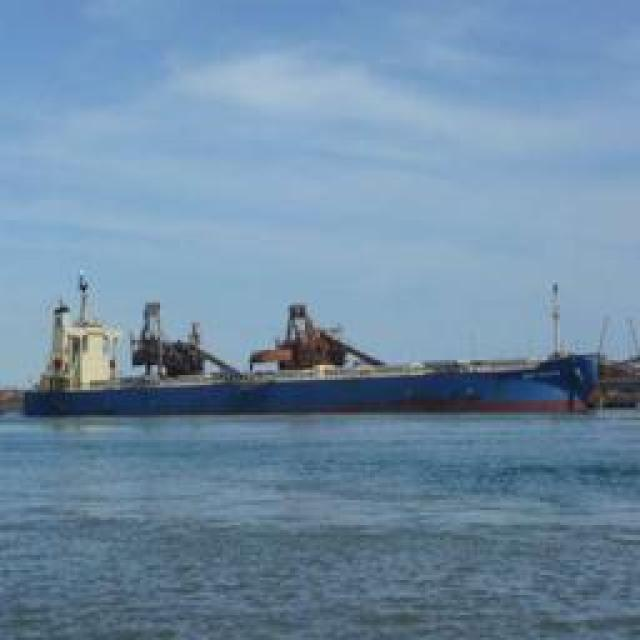ship: (16, 282, 609, 420)
